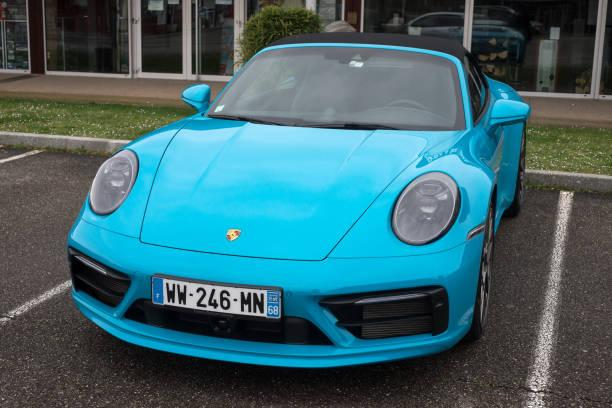porsche: (222, 221, 250, 248)
